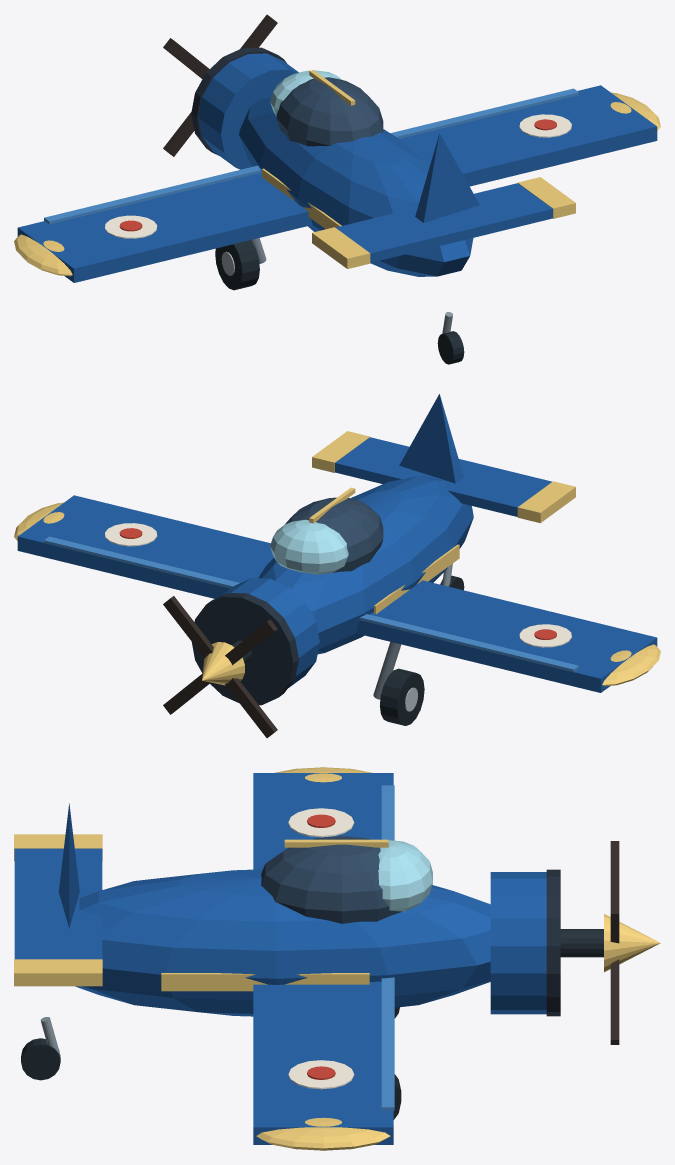
Rendered from blue-propeller-plane.glb.
3 renders of one model, top to bottom at view 1: azimuth 30°, elevation 25°; view 2: azimuth 150°, elevation 25°; view 3: azimuth 270°, elevation 25°, orthographic. The views are drawn at different scales.
Parts seen in each view (by area): view 1: Main wing, Tapered fuselage, Tailplane, Engine cowling, Canopy, Wing leading edge (×2), Upright tail fin, Rounded wing tip (×2), Wing roundel (×2), Main tire, Tailplane tip left, Engine rim (+6 smaller); view 2: Main wing, Tapered fuselage, Engine rim, Tailplane, Wing leading edge (×2), Blue windshield, Canopy, Engine cowling, Upright tail fin, Rounded wing tip (×2), Propeller blade B, Main tire (+7 smaller); view 3: Tapered fuselage, Main wing, Tailplane, Canopy, Engine cowling, Rounded wing tip (×2), Blue windshield, Side stripe, Wing leading edge (×2), Wing roundel (×2), Tailplane tip right, Engine rim (+7 smaller).
Boxes of the visible parts, <box> form: Main wing: <box>17,85,657,282</box>; Tapered fuselage: <box>239,96,473,276</box>; Tailplane: <box>336,183,552,262</box>; Engine cowling: <box>198,53,298,169</box>; Canopy: <box>276,77,383,146</box>; Wing leading edge (×2): <box>44,88,578,224</box>; Upright tail fin: <box>415,133,479,222</box>; Rounded wing tip (×2): <box>14,92,660,276</box>; Wing roundel (×2): <box>105,114,571,238</box>; Main tire: <box>215,240,259,290</box>; Tailplane tip left: <box>312,227,370,268</box>; Engine rim: <box>191,47,286,155</box>; Main wing: <box>17,495,657,692</box>; Tapered fuselage: <box>258,476,473,654</box>; Engine rim: <box>192,593,298,705</box>; Tailplane: <box>335,437,551,516</box>; Wing leading edge (×2): <box>44,536,578,672</box>; Blue windshield: <box>270,519,348,574</box>; Canopy: <box>284,497,383,572</box>; Engine cowling: <box>220,578,319,687</box>; Upright tail fin: <box>399,394,463,483</box>; Rounded wing tip (×2): <box>14,502,660,686</box>; Propeller blade B: <box>163,596,277,737</box>; Main tire: <box>380,668,424,725</box>; Tapered fuselage: <box>75,869,490,1016</box>; Main wing: <box>253,773,393,1144</box>; Tailplane: <box>14,848,102,959</box>; Canopy: <box>261,836,401,923</box>; Engine cowling: <box>490,872,546,1014</box>; Rounded wing tip (×2): <box>256,767,390,1150</box>; Blue windshield: <box>378,840,432,911</box>; Side stripe: <box>161,973,369,991</box>; Wing leading edge (×2): <box>381,785,394,1110</box>; Wing roundel (×2): <box>288,808,354,1089</box>; Tailplane tip right: <box>14,959,102,986</box>; Engine rim: <box>546,869,560,1016</box>.
Size of the model in its own units: 8.18 by 2.77 by 5.91.
